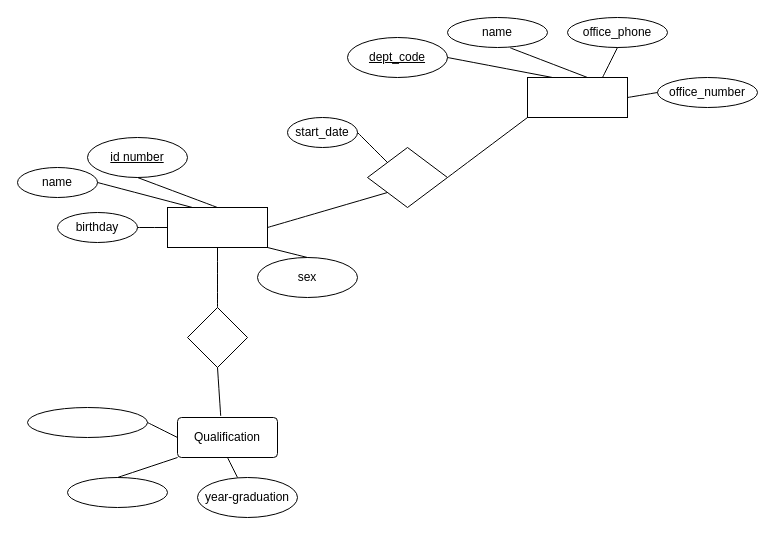
Some shapes in this 775 by 535 pixel diagram are drawn without their labels. Here are the shapes that lost their labels. From the top down, the centre of each, then its label:
At point 577,97: "Department".
At point 407,177: "Manages".
At point 217,227: "Instructor".
At point 217,337: "Has".
At point 87,422: "specialized_training".
At point 117,492: "training_institue".
